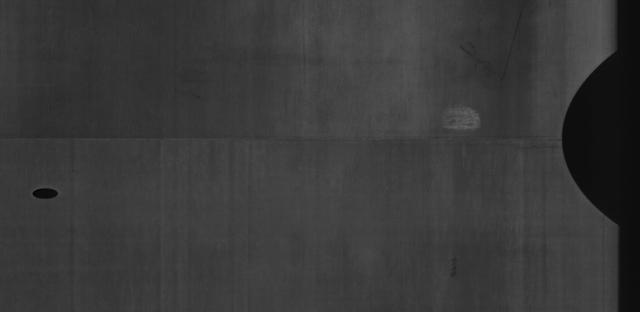crescent_gap: (555, 42, 624, 233)
punching_hole: (24, 179, 68, 204)
rolled_pit: (444, 254, 462, 278)
welding_line: (3, 133, 561, 157)
